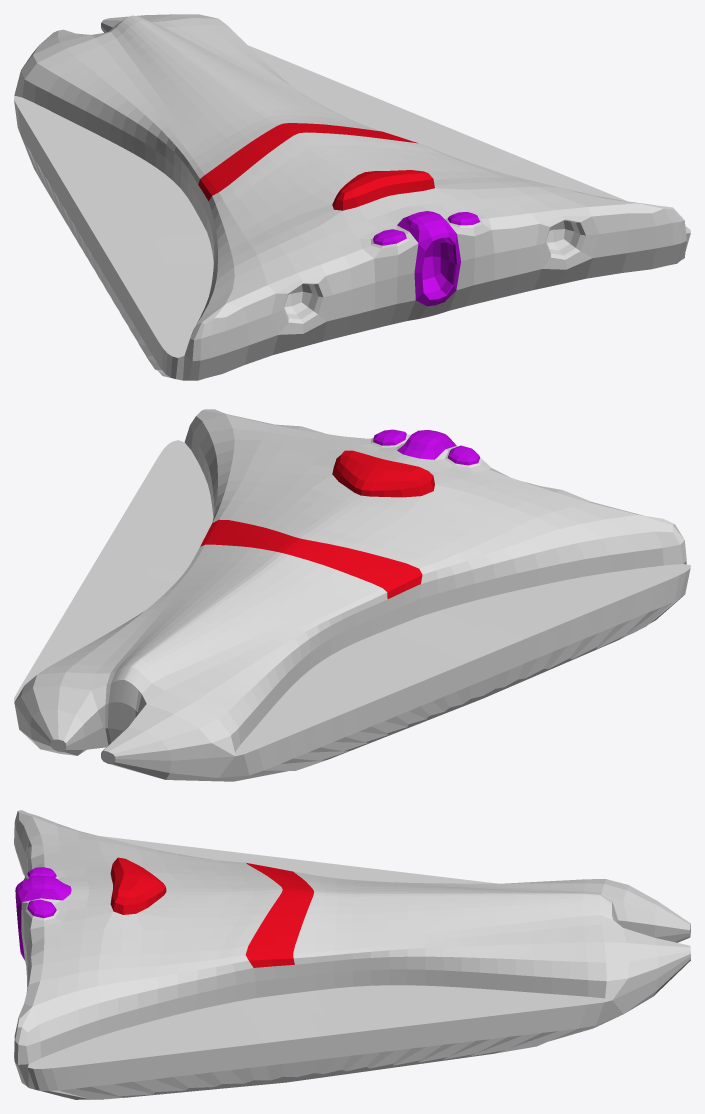
Rendered from reforgedPlayer1LOW.fbx.
The picture shows the model from 3 angles, top to bottom: view 1: azimuth 30°, elevation 25°; view 2: azimuth 150°, elevation 25°; view 3: azimuth 270°, elevation 25°; orthographic projection. The views are drawn at different scales.
Visible parts, largest first — view 1: Base; view 2: Base; view 3: Base.
Part boxes in pixels (x1,y1,x2,y2): Base: (14, 14, 690, 380); Base: (14, 409, 690, 781); Base: (14, 810, 690, 1099).
Size of the model in its own units: 301 by 72.89 by 360.
